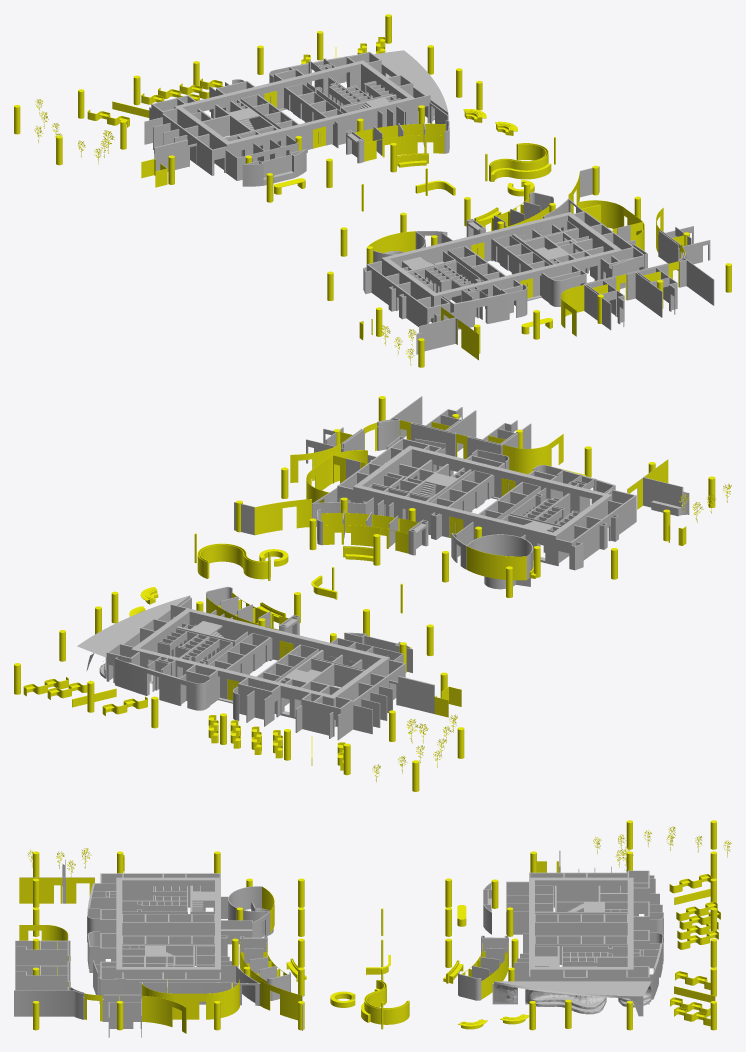
File: sm_hana_building_14f_in.glb
3 renders of one model, top to bottom at view 1: azimuth 30°, elevation 25°; view 2: azimuth 150°, elevation 25°; view 3: azimuth 270°, elevation 25°, orthographic. The views are drawn at different scales.
Visible parts, largest first — view 1: sm_hana_building_14f_in; view 2: sm_hana_building_14f_in; view 3: sm_hana_building_14f_in.
Boxes of the visible parts, x1,y1,x2,y2 form: sm_hana_building_14f_in: [14, 14, 731, 367]; sm_hana_building_14f_in: [14, 396, 731, 791]; sm_hana_building_14f_in: [14, 820, 731, 1037].
Size of the model in its own units: 61.4 by 5.57 by 97.46.
Materials: 7 (5 with a texture image).
